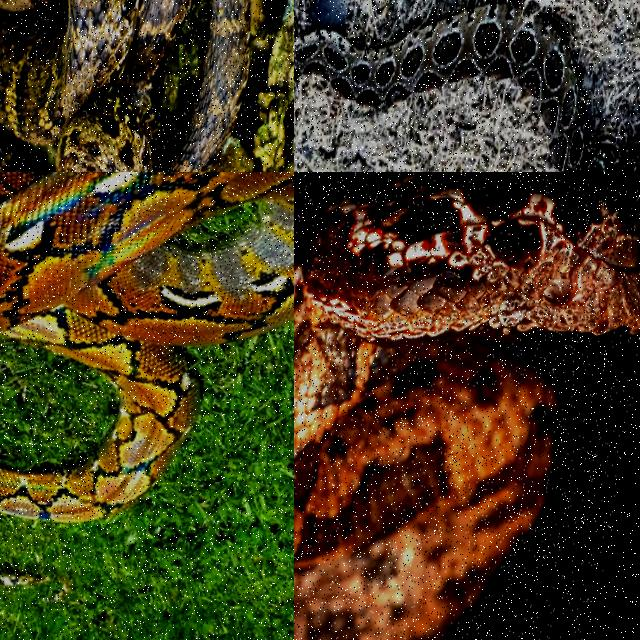Daboia siamensis: (294, 0, 639, 171)
Malayopython reticulatus: (0, 172, 293, 517)
Ovophis monticola: (294, 172, 639, 639), (0, 0, 249, 171)
snake: (294, 172, 639, 639), (0, 172, 293, 517), (294, 0, 639, 171), (0, 0, 249, 171)
